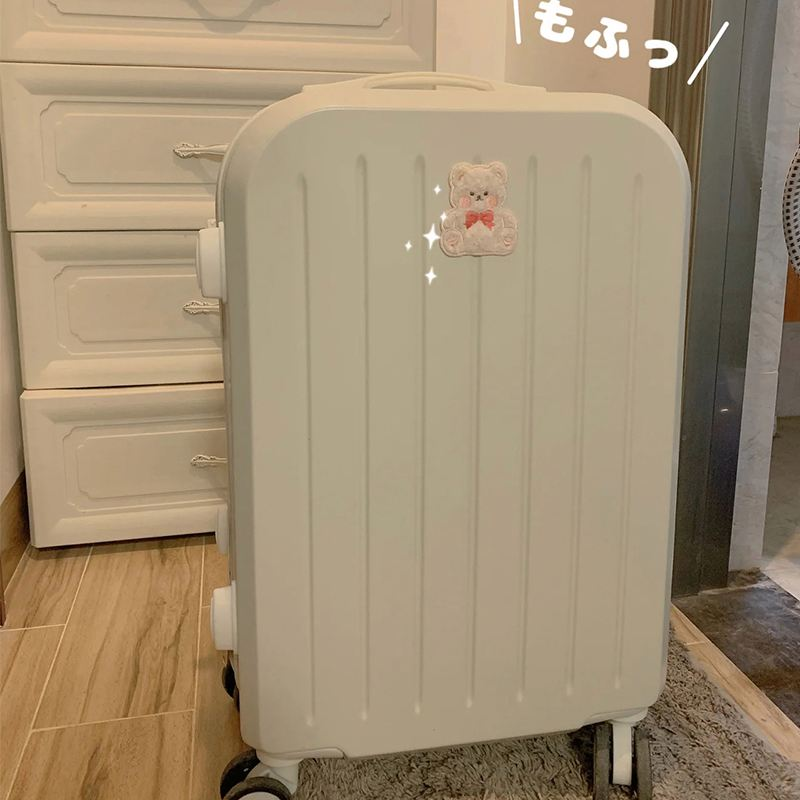box: (216, 97, 692, 765)
handle: (301, 71, 547, 97)
wheel: (588, 724, 654, 799), (220, 751, 298, 800)
